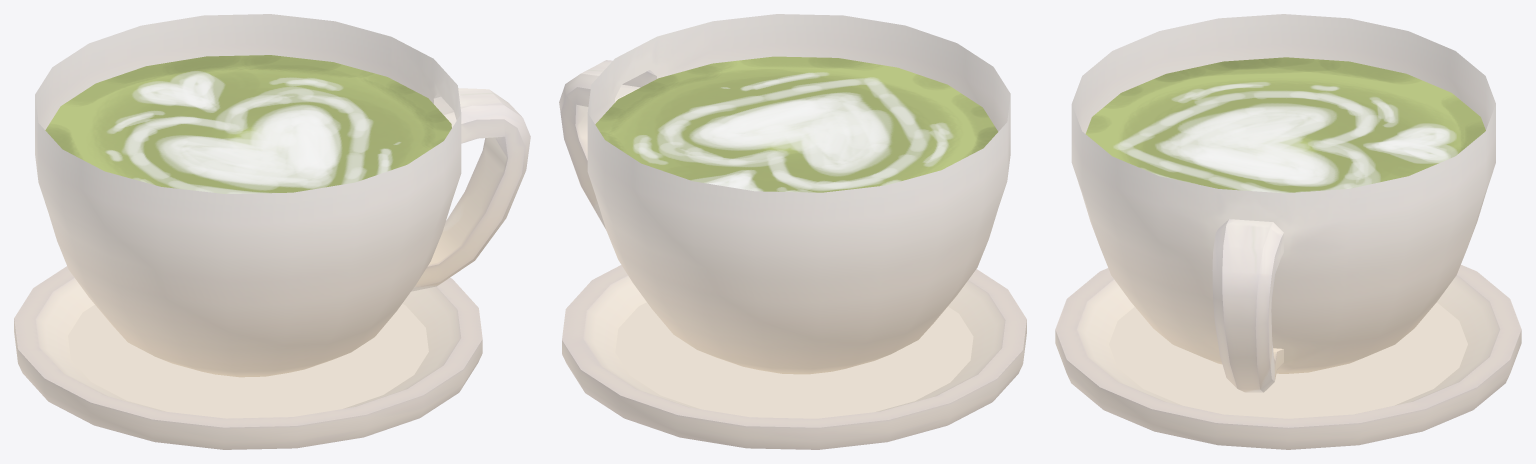
The model's file is green_tea_latte.glb.
3 renders of one model, left to right at view 1: azimuth 30°, elevation 25°; view 2: azimuth 150°, elevation 25°; view 3: azimuth 270°, elevation 25°, orthographic.
Parts seen in each view (by area): view 1: Cup, Plate, Latte; view 2: Cup, Plate, Latte; view 3: Cup, Plate, Latte.
Part boxes in pixels (x1,y1,x2,y2): Cup: [35, 14, 530, 377]; Plate: [14, 266, 482, 449]; Latte: [45, 55, 451, 194]; Cup: [559, 14, 1010, 374]; Plate: [562, 265, 1026, 449]; Latte: [595, 56, 997, 192]; Cup: [1071, 14, 1495, 392]; Plate: [1055, 265, 1521, 449]; Latte: [1085, 57, 1485, 193].
Size of the model in its own units: 2.46 by 1.31 by 2.2.
Materials: 2 (2 with a texture image).
